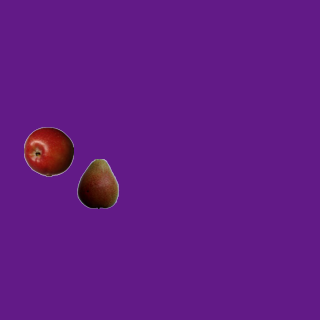Apple Braeburn: (23, 126, 73, 176)
Pear Forelle: (72, 158, 122, 208)
